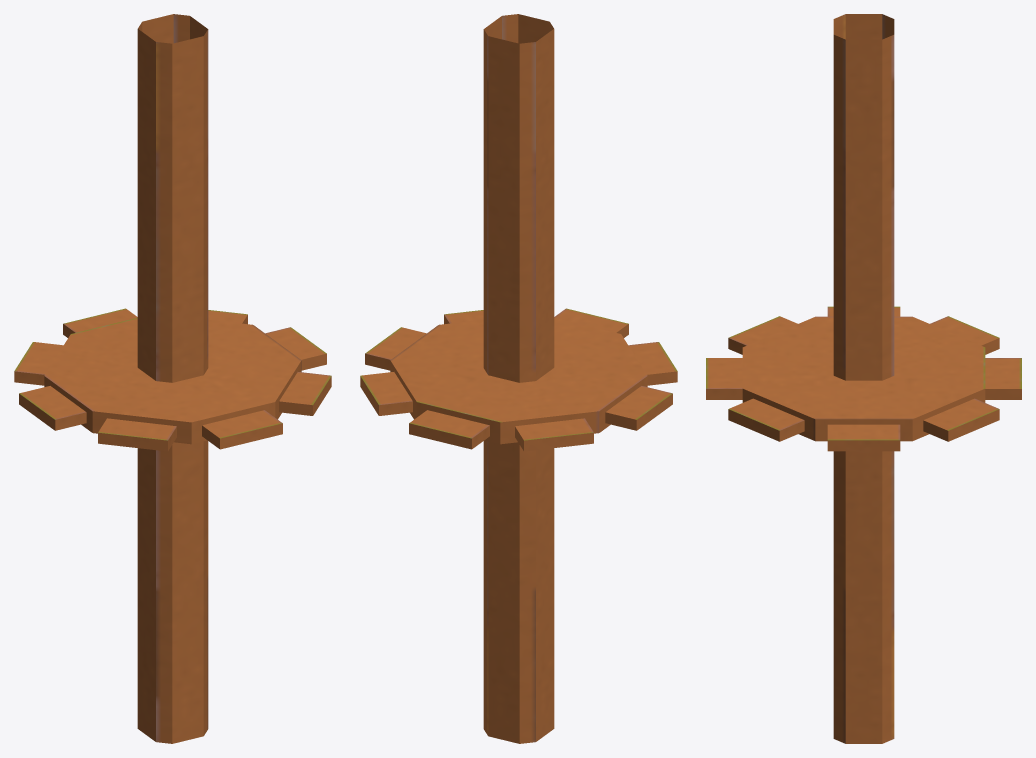
Rendered from Gear.fbx.
The picture shows the model from 3 angles, left to right: view 1: azimuth 30°, elevation 25°; view 2: azimuth 150°, elevation 25°; view 3: azimuth 270°, elevation 25°; orthographic projection.
Parts seen in each view (by area): view 1: Gear; view 2: Gear; view 3: Gear.
Boxes of the visible parts, x1,y1,x2,y2 form: Gear: [14, 14, 331, 743]; Gear: [360, 14, 677, 743]; Gear: [706, 14, 1021, 743].
Bounding box in the file's own units: 520 × 1280 × 520.
